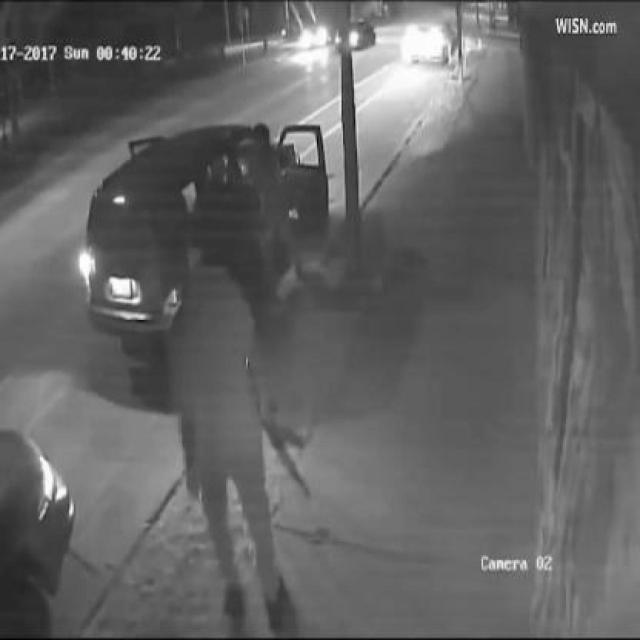weapon: (228, 374, 315, 502)
